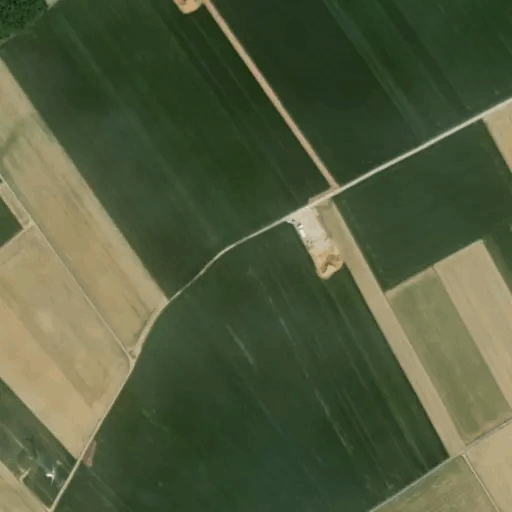wt: (23, 432, 58, 486)
